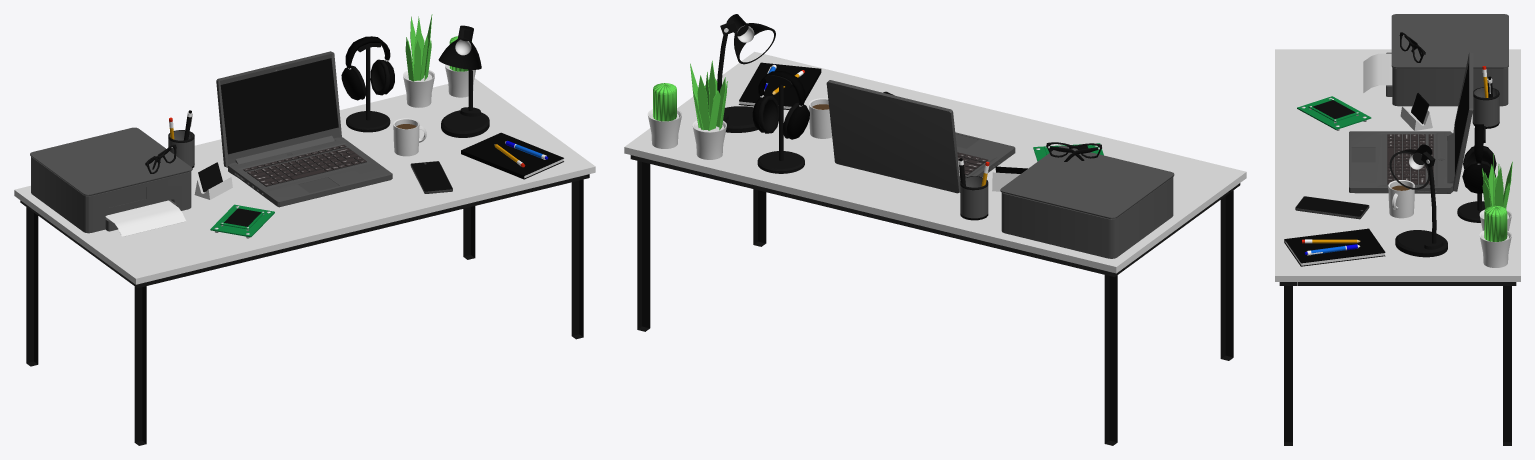
Rendered from desk-setup.glb.
3 views of the same model, side by side, from view 1: azimuth 30°, elevation 25°; view 2: azimuth 150°, elevation 25°; view 3: azimuth 270°, elevation 25° (orthographic). The views are drawn at different scales.
Visible parts, largest first — view 1: Desk, Printer_Base, Laptop_Screen, Laptop_Base, Laptop_ScreenPanel, Laptop_Keys, Lamp_Base, Book, Plant, Headphone, Printer_Paper, HeadphoneStand (+6 smaller); view 2: Desk, Printer_Base, Laptop_ScreenPanel, Plant, Headphone, Lamp_Base, Cactus, Book, HeadphoneStand, Laptop_Base, PencilHolder, Mug_Base (+1 smaller); view 3: Desk, Printer_Base, Laptop_Base, Book, Lamp_Base, Cactus, Laptop_Keys, Headphone, Plant, Embedded_Base, PencilHolder, Printer_Paper (+13 smaller).
Boxes of the visible parts, x1,y1,x2,y2 form: Desk: [14, 78, 595, 445]; Printer_Base: [30, 127, 192, 233]; Laptop_Screen: [220, 58, 338, 154]; Laptop_Base: [228, 137, 392, 207]; Laptop_ScreenPanel: [216, 51, 341, 167]; Laptop_Keys: [243, 145, 366, 186]; Lamp_Base: [438, 25, 489, 137]; Book: [461, 132, 563, 179]; Plant: [403, 14, 434, 107]; Headphone: [341, 36, 394, 100]; Printer_Paper: [105, 200, 185, 236]; HeadphoneStand: [346, 36, 390, 132]; Desk: [624, 51, 1246, 445]; Printer_Base: [1000, 145, 1174, 258]; Laptop_ScreenPanel: [826, 80, 960, 193]; Plant: [690, 60, 727, 159]; Headphone: [752, 71, 809, 139]; Lamp_Base: [717, 14, 775, 132]; Cactus: [647, 83, 681, 148]; Book: [739, 62, 821, 109]; HeadphoneStand: [757, 75, 804, 173]; Laptop_Base: [955, 132, 1015, 192]; PencilHolder: [960, 176, 988, 220]; Mug_Base: [809, 98, 832, 138]; Desk: [1275, 49, 1520, 445]; Printer_Base: [1386, 14, 1508, 106]; Laptop_Base: [1349, 131, 1452, 193]; Book: [1284, 228, 1385, 266]; Lamp_Base: [1389, 144, 1447, 257]; Cactus: [1479, 205, 1511, 267]; Laptop_Keys: [1387, 134, 1433, 184]; Headphone: [1462, 124, 1496, 193]; Plant: [1479, 153, 1512, 230]; Embedded_Base: [1297, 96, 1371, 130]; PencilHolder: [1472, 87, 1499, 128]; Printer_Paper: [1363, 53, 1392, 92].
Bounding box in the file's own units: 1.2 × 0.6829 × 0.55.
19 materials, 1 textured.
